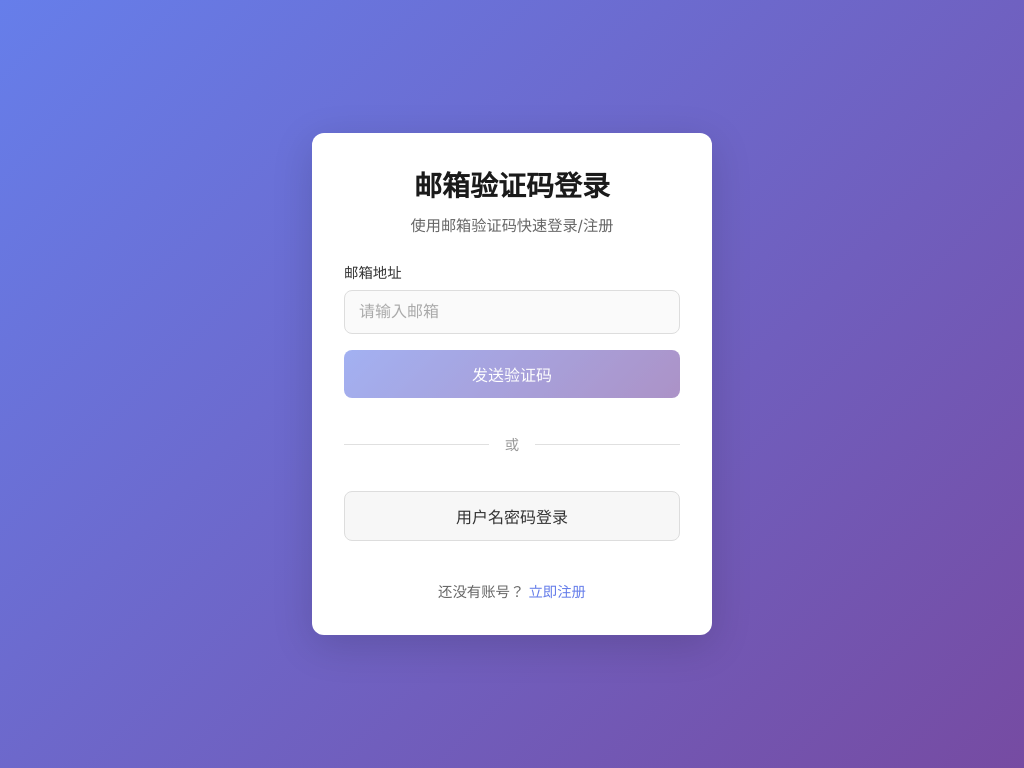
it: LoginEmail Component › enables send code button when email is entered
Type "test@example.com" into the field labelled "邮箱地址" at (512,312), box top-left (344, 290), bottom-right (680, 334)
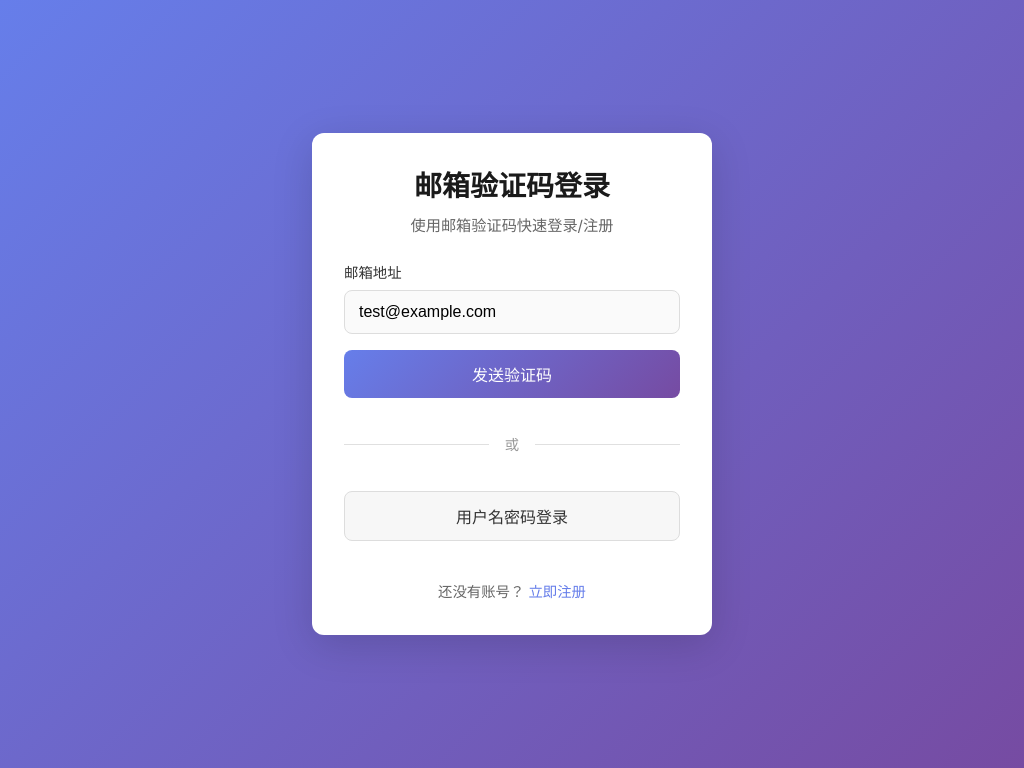
Check: the button "发送验证码" is enabled, box top-left (344, 350), bottom-right (680, 398)
